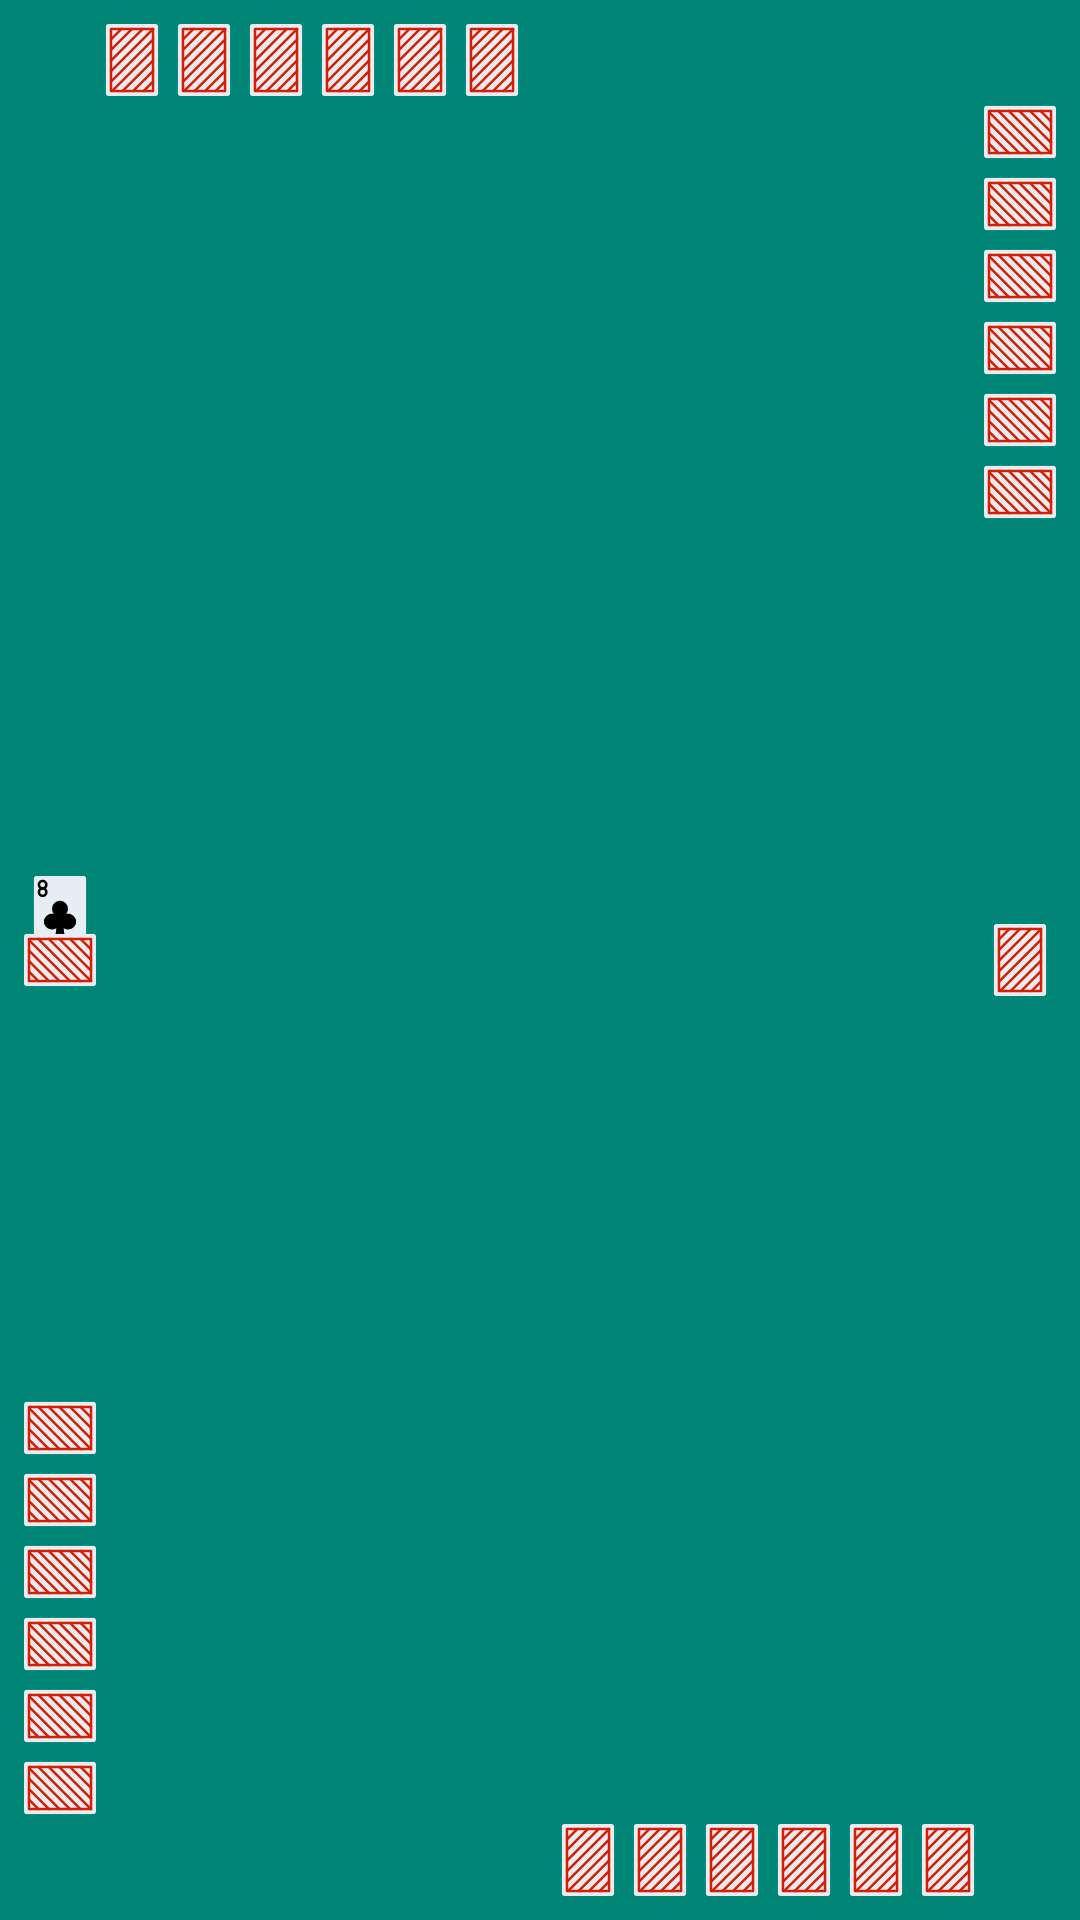

Icons on this 1080*1920 Android screen, each with the point to tap as (x,y):
eight clubs: (60,912)
